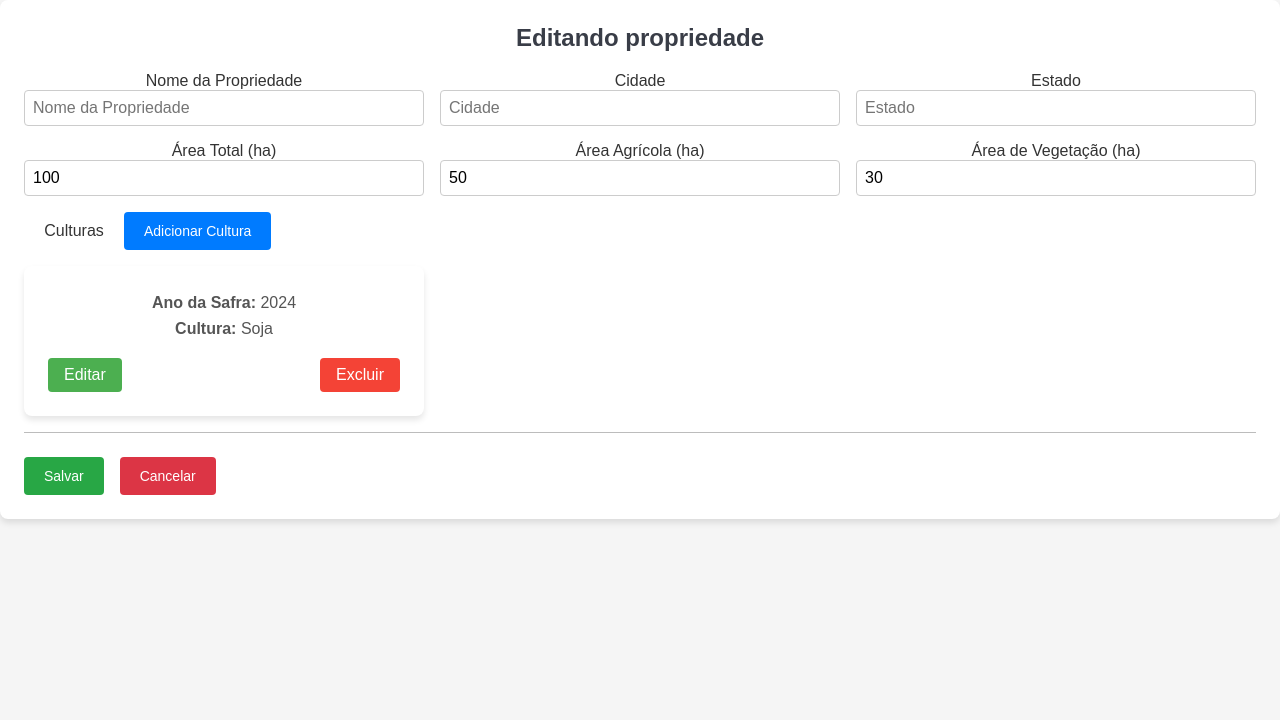
Test: Formulário de Edição de Propriedade › deve exibir a cultura editada ao clicar em editar
Click the button "Editar" at (85, 375), box [48,358,122,392]
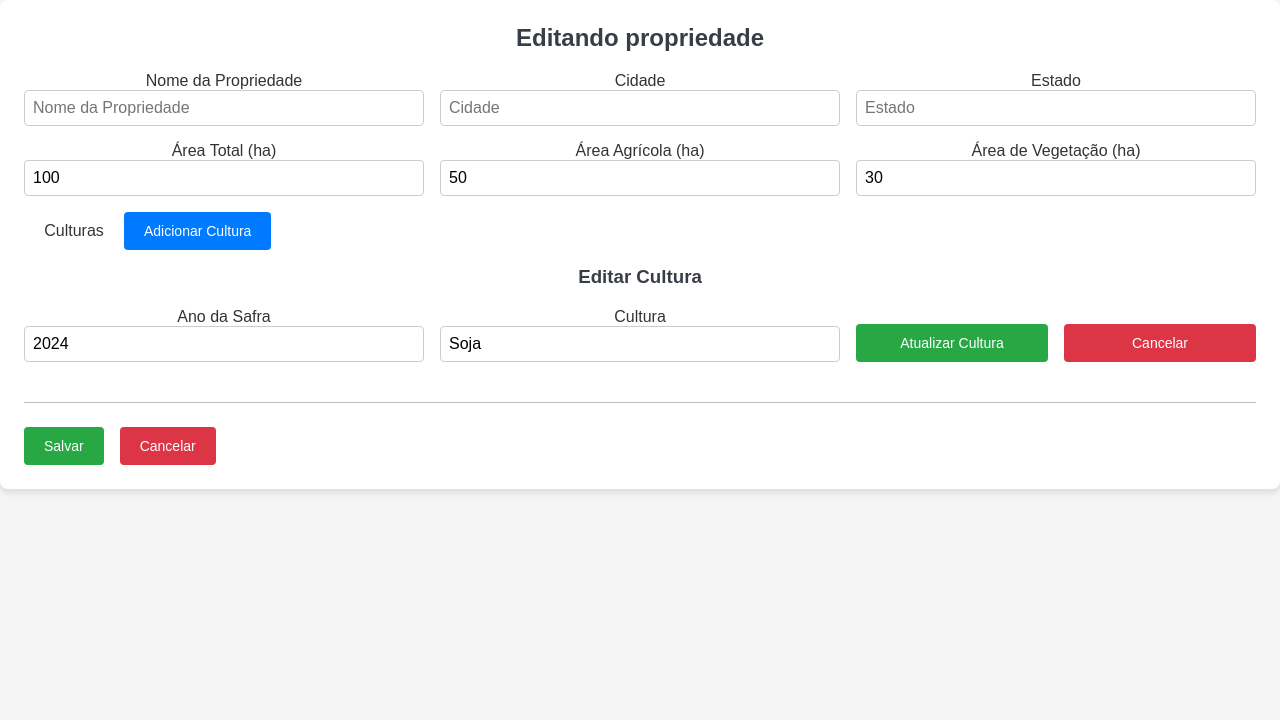
Check: the heading "Editar Cultura" is shown, box [578,266,702,287]
Check: the field showing "2024" is shown, box [24,326,424,362]
Check: the field showing "Soja" is shown, box [440,326,840,362]
